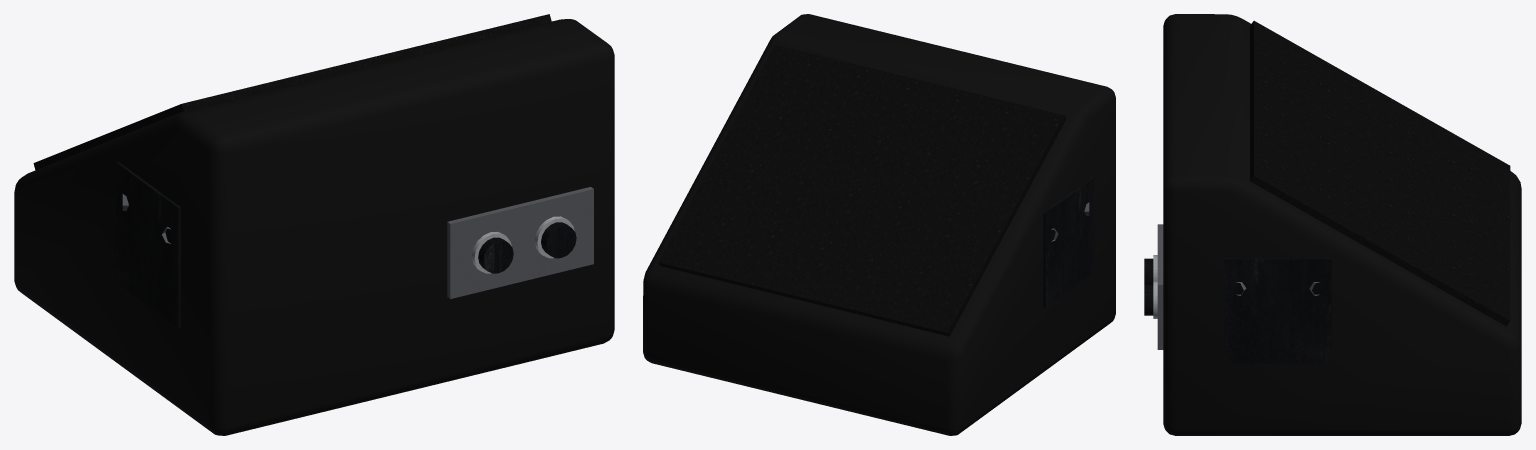
The model's file is wedge_compact.gltf.
The picture shows the model from 3 angles, left to right: view 1: azimuth 30°, elevation 25°; view 2: azimuth 150°, elevation 25°; view 3: azimuth 270°, elevation 25°; orthographic projection. The views are drawn at different scales.
Visible parts, largest first — view 1: wedge_compact; view 2: wedge_compact; view 3: wedge_compact.
Boxes of the visible parts, x1,y1,x2,y2 form: wedge_compact: (14, 14, 614, 435); wedge_compact: (643, 14, 1115, 435); wedge_compact: (1144, 14, 1521, 435).
Size of the model in its own units: 0.4673 by 0.332 by 0.421.
Materials: 6 (6 with a texture image).
